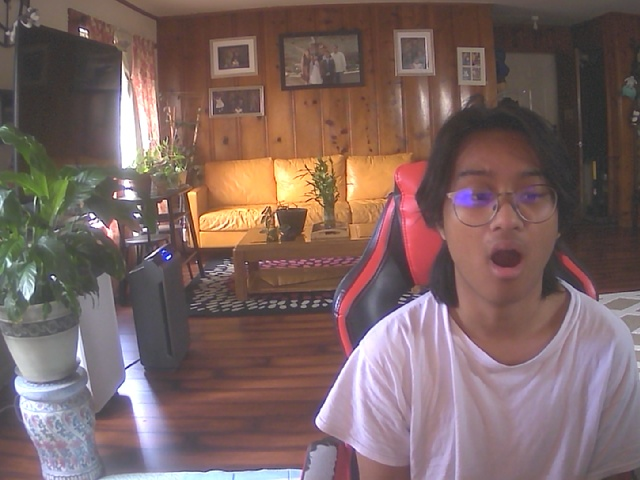fear: (433, 114, 567, 305)
